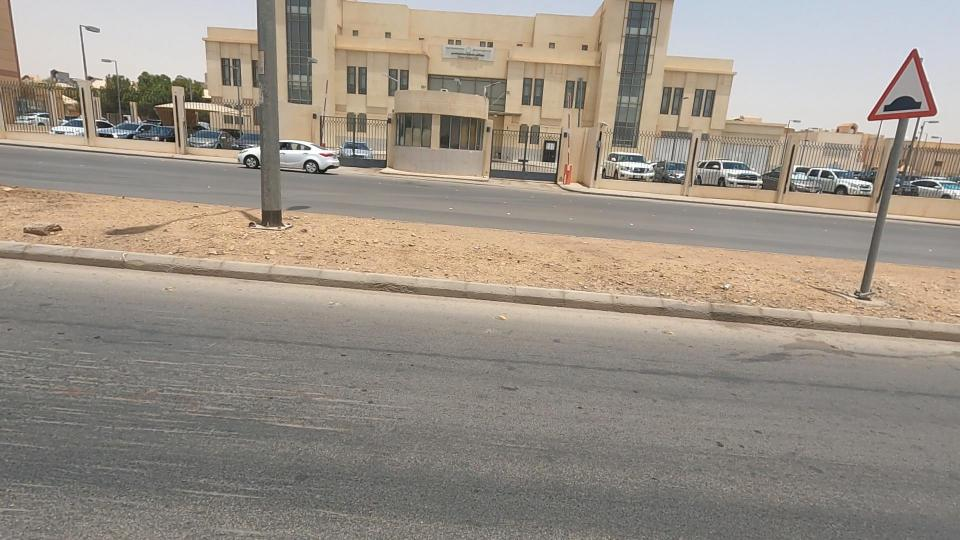CLUTTER_SIDEWALK: (174, 161, 906, 350), (0, 135, 273, 304)
